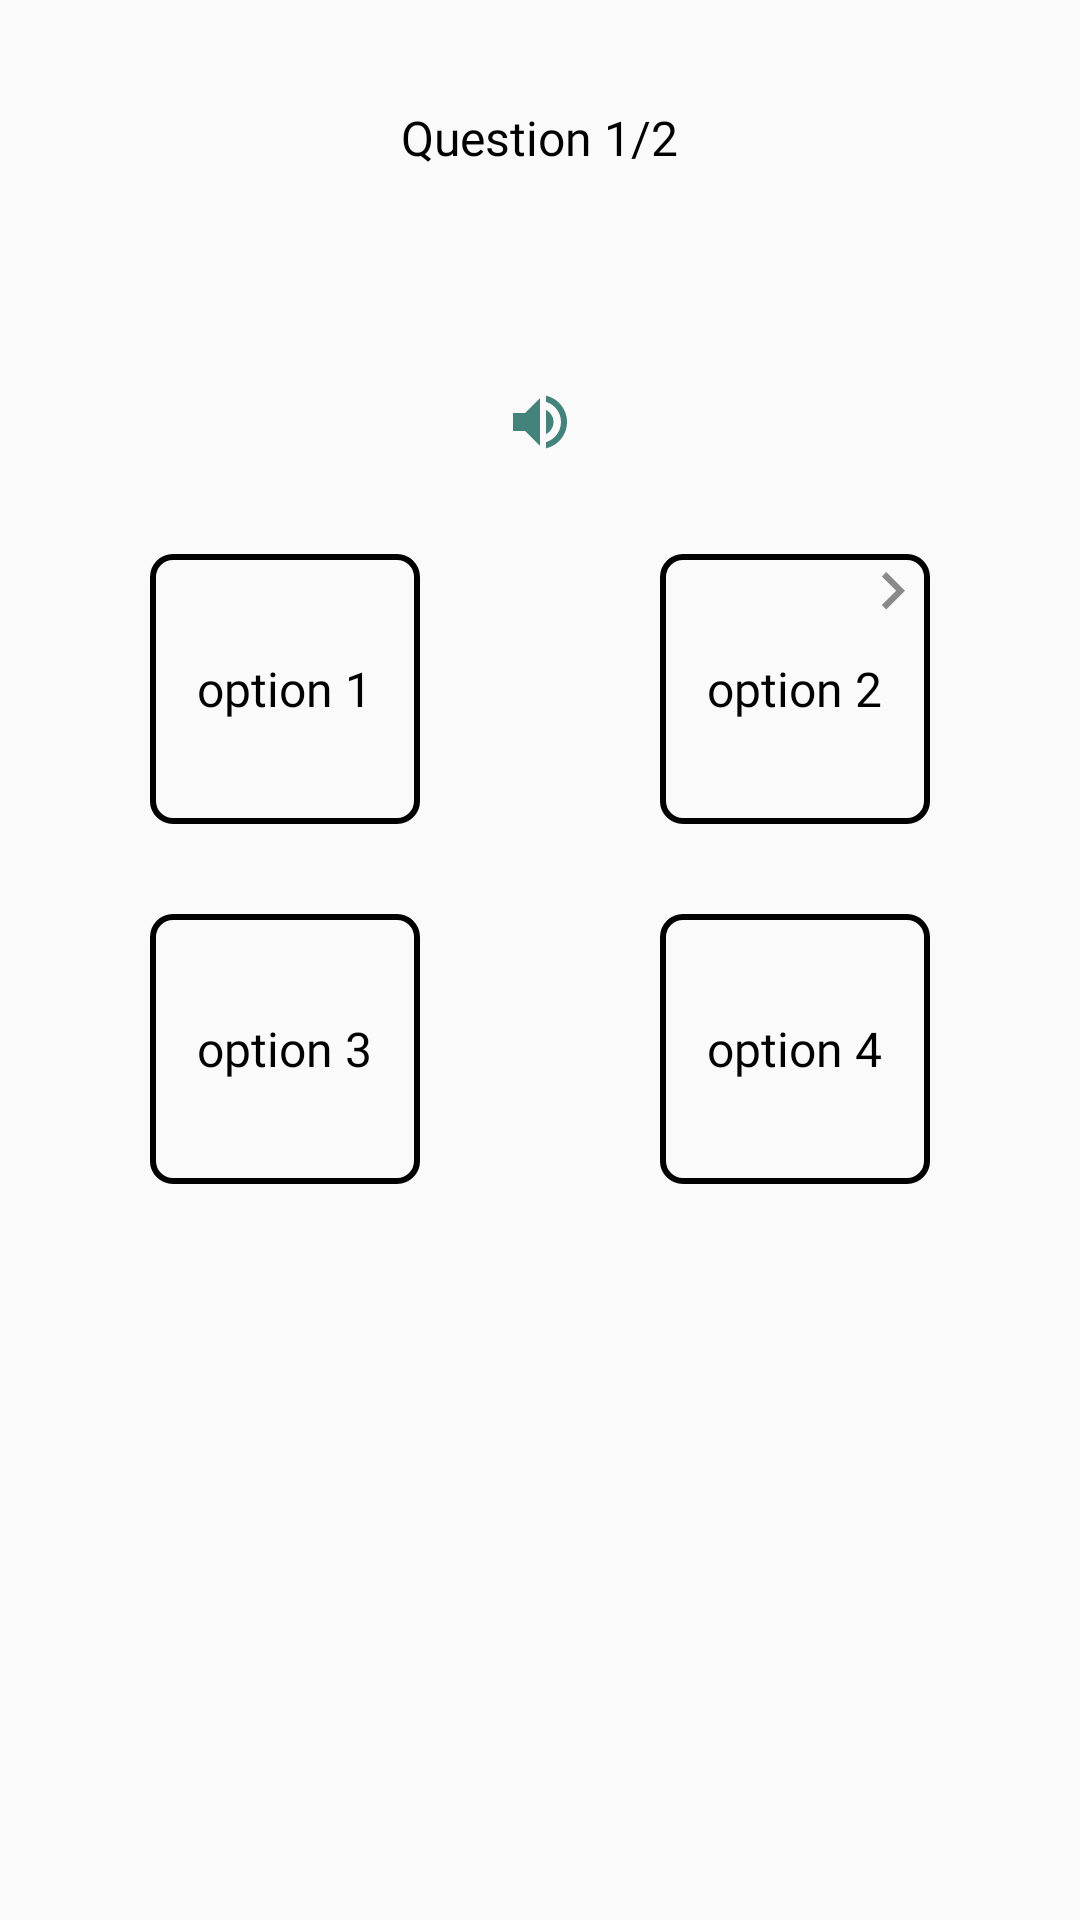

Icon click points for this 1080x1920 phone screenshot, format point (x, y):
listen: point (540, 422)
